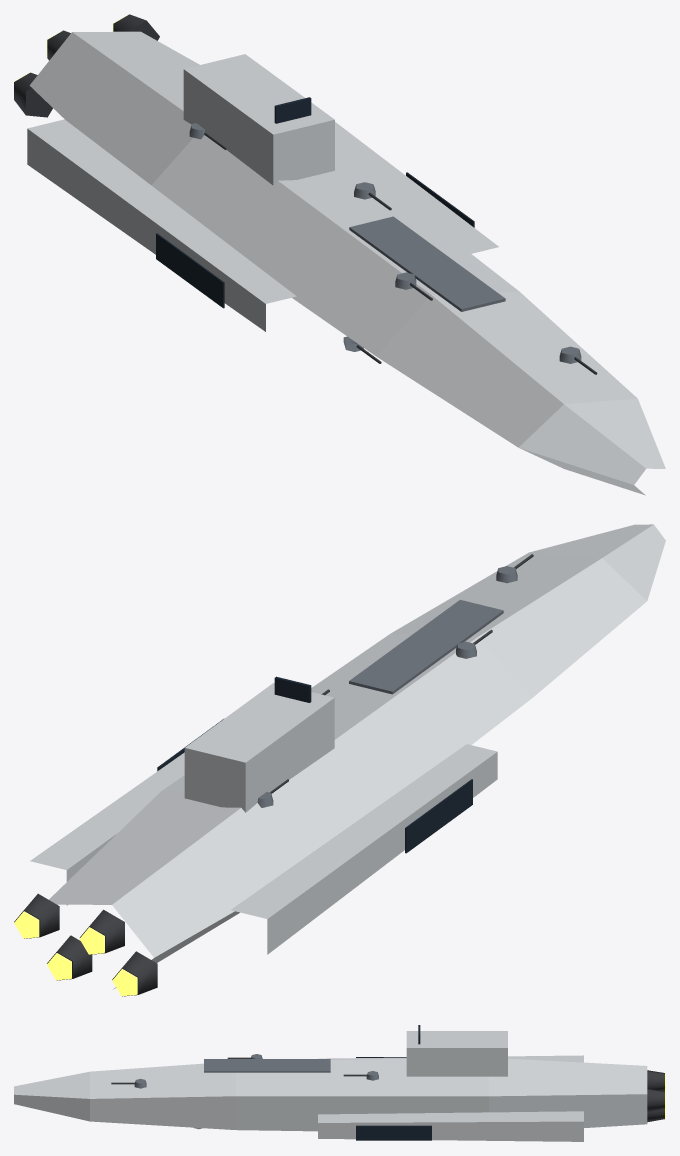
Rendered from space_ship_cruiser_mk2_lod1.glb.
The picture shows the model from 3 angles, top to bottom: view 1: azimuth 30°, elevation 25°; view 2: azimuth 150°, elevation 25°; view 3: azimuth 270°, elevation 25°; orthographic projection. The views are drawn at different scales.
Parts seen in each view (by area): view 1: body, hangar_r, engine_0; view 2: body, hangar_r, engine_3, engine_0, engine_1, engine_2; view 3: body, hangar_l, engine_3, engine_1, engine_2.
Part boxes in pixels (x1,y1,x2,y2): body: (27,31,665,495); hangar_r: (156,233,224,308); engine_0: (14,72,52,117); body: (30,524,665,989); hangar_r: (405,779,472,853); engine_3: (14,893,59,938); engine_0: (112,951,157,996); engine_1: (79,909,124,954); engine_2: (47,935,92,980); body: (14,1025,647,1141); hangar_l: (356,1125,431,1140); engine_3: (647,1088,665,1111); engine_1: (647,1070,665,1090); engine_2: (647,1108,665,1122).
Bounding box in the file's own units: 18.56 × 12.04 × 73.8.
